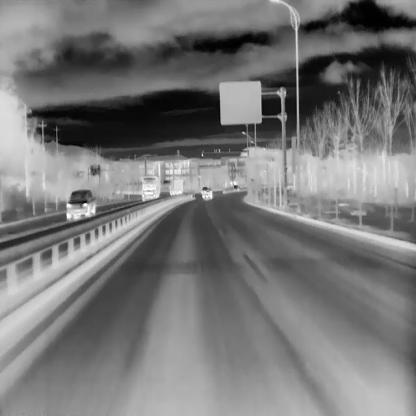car: (65, 188, 96, 218), (201, 189, 212, 199)
truck: (141, 174, 160, 200), (168, 179, 184, 195)
